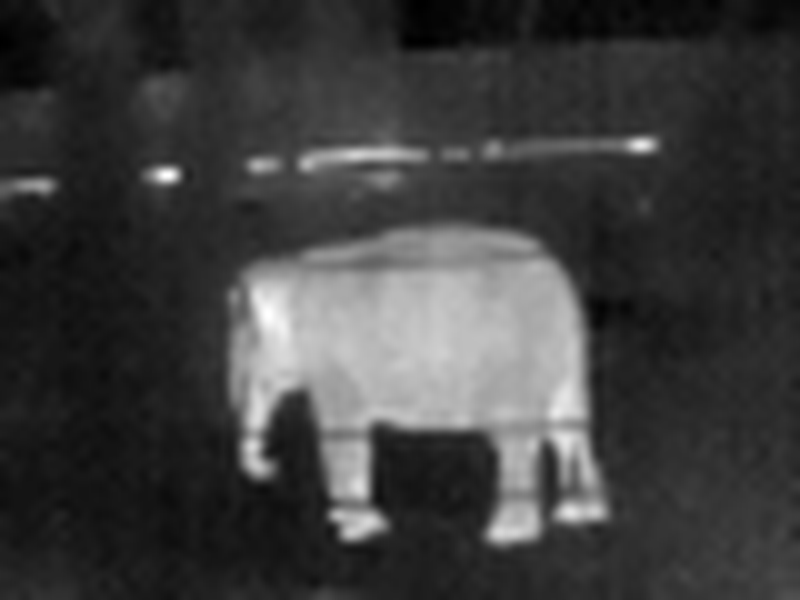elephant: (208, 228, 613, 545)
